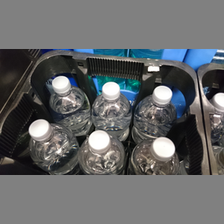water: (25, 117, 77, 172), (47, 73, 90, 131), (90, 81, 134, 136), (133, 85, 176, 139), (128, 134, 181, 173), (75, 131, 123, 174)
